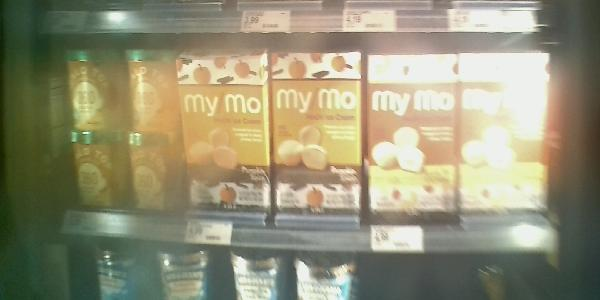icecream: (273, 50, 370, 228), (368, 42, 459, 222), (178, 52, 277, 216), (460, 50, 553, 219), (124, 47, 187, 135), (62, 45, 125, 131), (62, 131, 131, 209), (129, 134, 191, 219)
